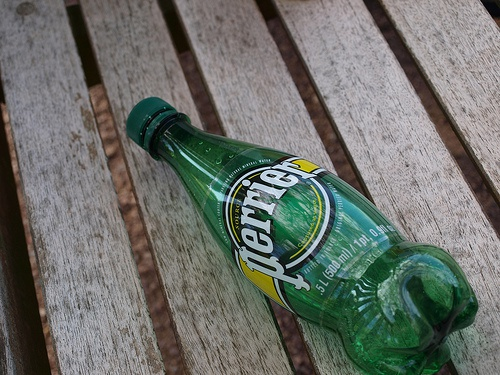emptybottle: (126, 97, 478, 375)
